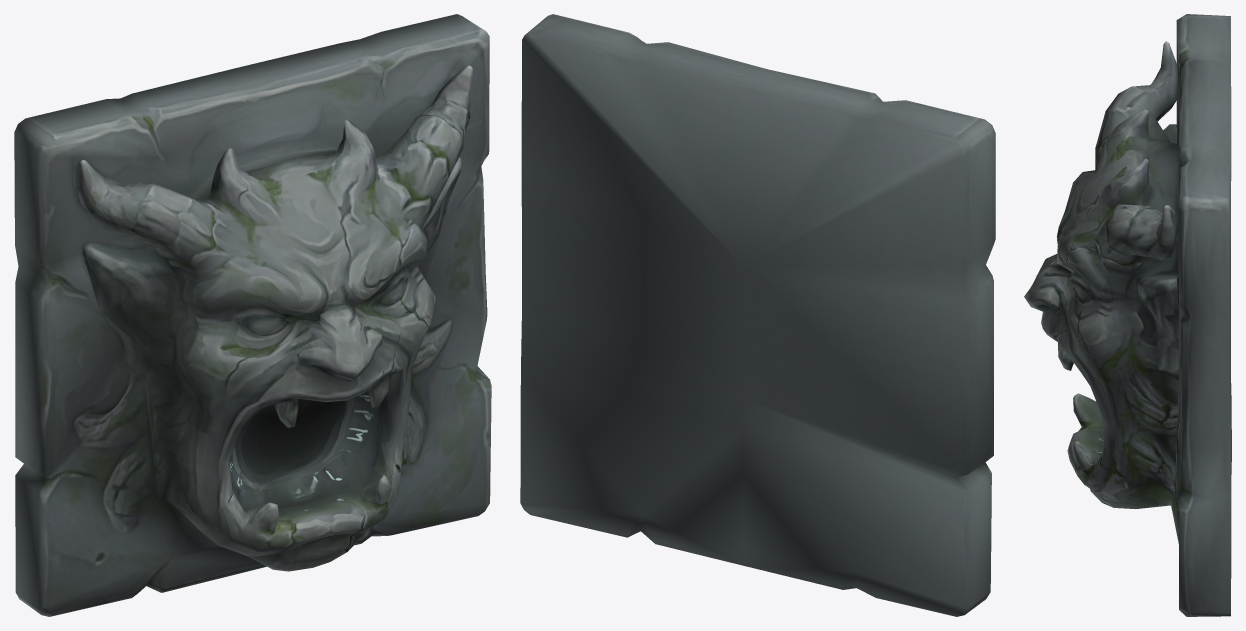
The model's file is bocca_trappola.fbx.
3 views of the same model, side by side, from view 1: azimuth 30°, elevation 25°; view 2: azimuth 150°, elevation 25°; view 3: azimuth 270°, elevation 25° (orthographic). The views are drawn at different scales.
Visible parts, largest first — view 1: tripo_node_84a9a0a0; view 2: tripo_node_84a9a0a0; view 3: tripo_node_84a9a0a0.
Boxes of the visible parts, <box> form: tripo_node_84a9a0a0: <box>14,14,491,616</box>; tripo_node_84a9a0a0: <box>520,14,995,616</box>; tripo_node_84a9a0a0: <box>1024,14,1231,616</box>.
Bounding box in the file's own units: 0.9761 × 0.9995 × 0.4468.
Materials: 1 (1 with a texture image).
